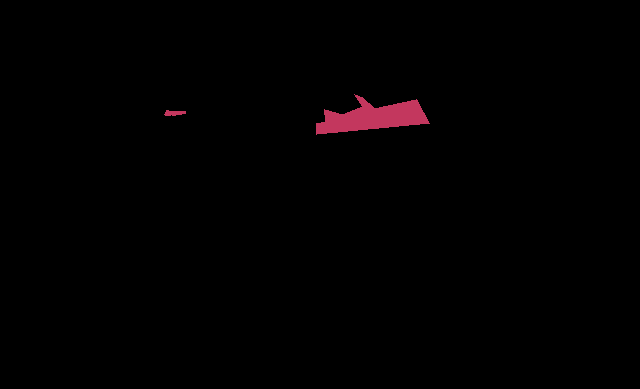Airplane: (316, 94, 430, 135), (164, 110, 186, 115)
